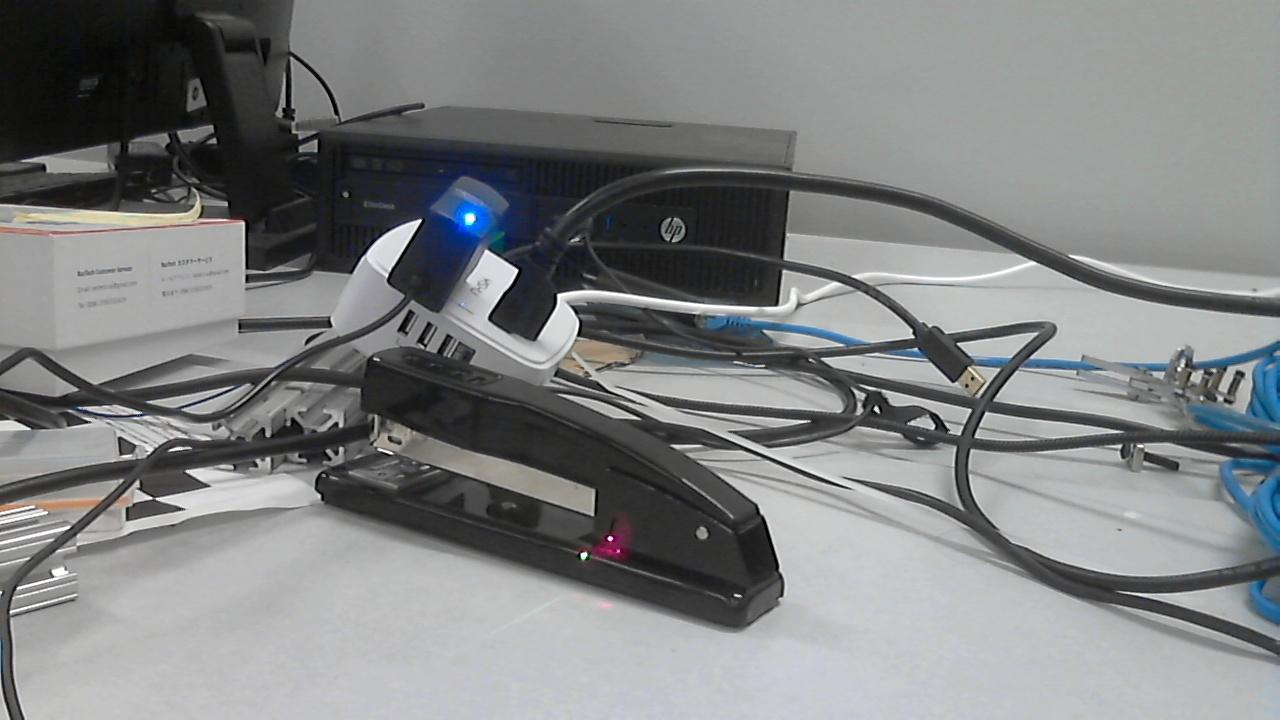object stapler - material metal - color black - Pdfname fduiadew: (564, 508, 644, 582)
